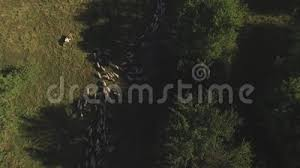sheep: (111, 62, 121, 71), (94, 70, 102, 78), (62, 37, 71, 43), (111, 72, 121, 77), (76, 97, 81, 107), (99, 65, 106, 72), (95, 60, 101, 68), (84, 86, 90, 94), (101, 79, 107, 86), (105, 86, 111, 92)
